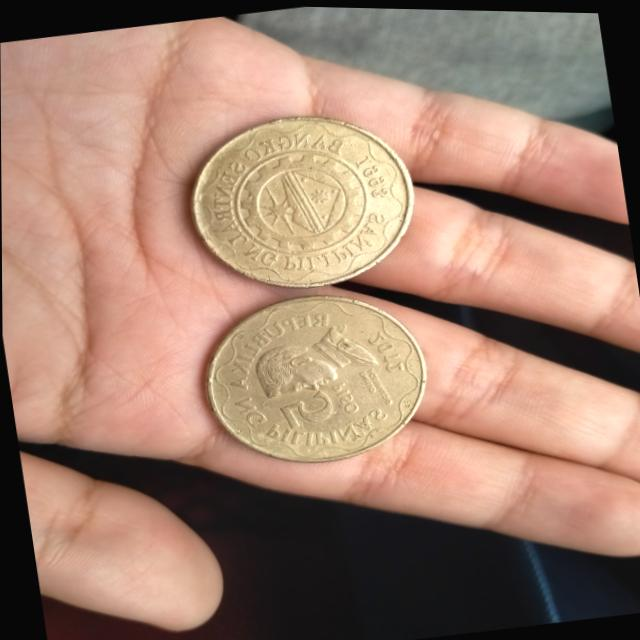5_Old_Back: (185, 99, 425, 301)
5_Old_Front: (268, 374, 375, 434)
